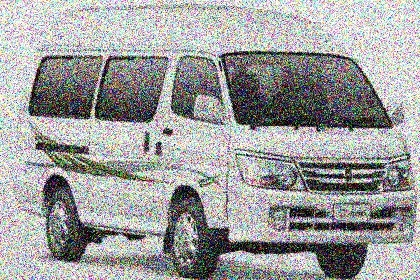van: (13, 5, 420, 279)
